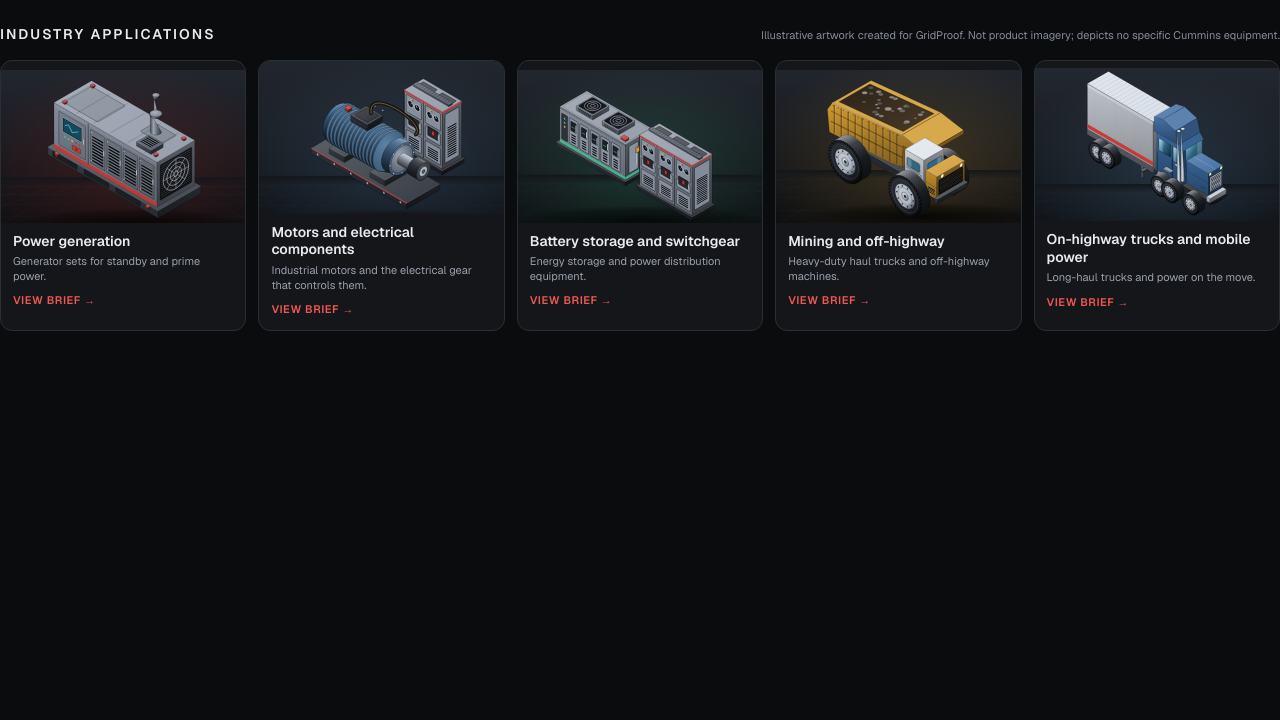
application brief dialog › opens the Battery storage and switchgear brief with summary and 2-4 considerations
The image size is (1280, 720).
Click the button "Battery storage and switchgear".
click(640, 195)  # box [517, 60, 763, 330]
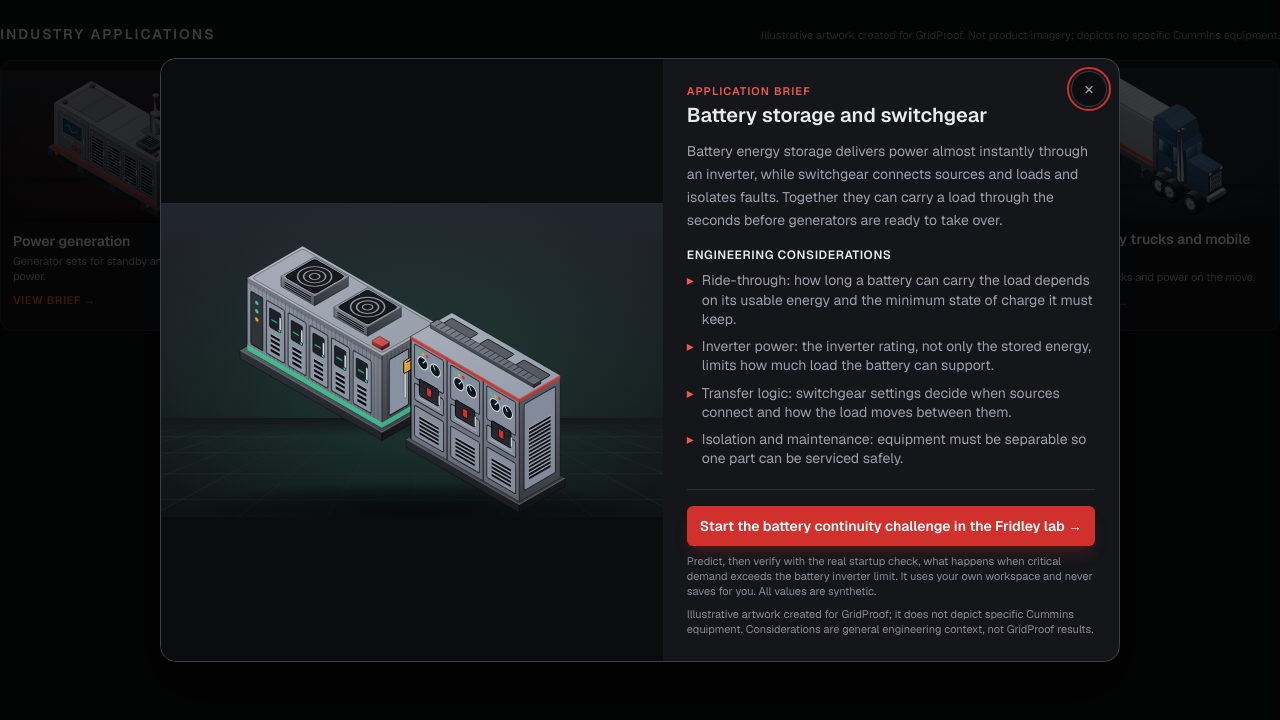
Expected: the text "Battery energy storage delivers power almost instantly through an inverter, while switchgear connects sources and loads " is shown, [687, 142, 1088, 229]
Expected: the text "does not depict specific Cummins equipment" is shown, [687, 607, 1093, 636]
